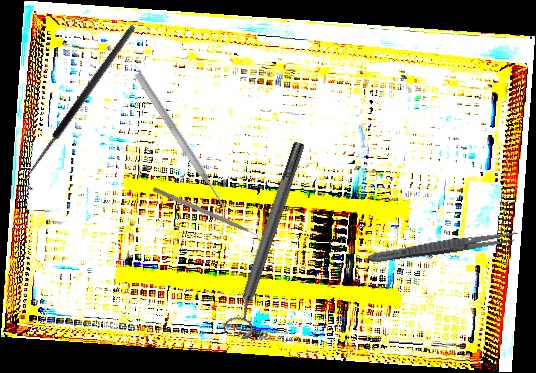Chopper: (149, 186, 266, 247)
Dressing Forceps: (367, 227, 520, 267)
Fixation Ring: (219, 138, 317, 342)
Hook Surgical: (19, 23, 144, 192)
Pusher: (132, 70, 232, 215)
